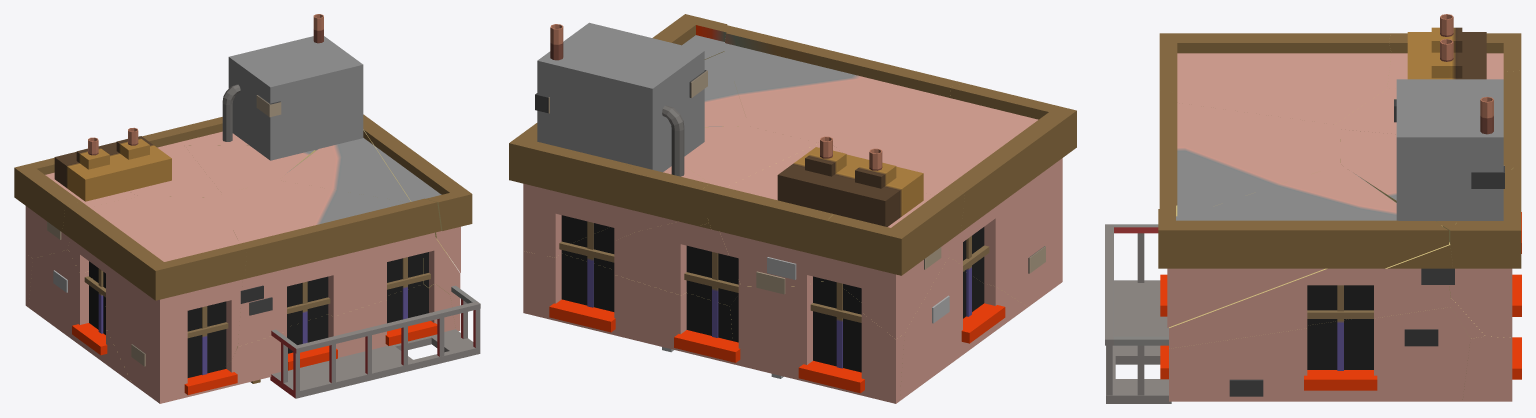
File: House_3_top_cell.fbx
3 renders of one model, left to right at view 1: azimuth 30°, elevation 25°; view 2: azimuth 150°, elevation 25°; view 3: azimuth 270°, elevation 25°, orthographic. The views are drawn at different scales.
Visible parts, largest first — view 1: polySurface298_cell.012, polySurface298_cell.010, pCube2, polySurface298_cell.007, polySurface298_cell.013, polySurface229, polySurface298_cell.009, polySurface298_cell.004, polySurface342, polySurface298_cell.008, polySurface298_cell.006, polySurface298_cell.011 (+7 smaller); view 2: polySurface298_cell.012, pCube2, polySurface298_cell.010, polySurface298_cell.005, polySurface298_cell.006, polySurface298_cell.008, polySurface298_cell, polySurface298_cell.001, polySurface298_cell.011, polySurface229, polySurface298_cell.004, polySurface298_cell.003 (+13 smaller); view 3: polySurface298_cell.002, polySurface298_cell.009, polySurface298_cell.013, polySurface298_cell.012, polySurface298_cell.010, pCube2, polySurface298_cell, polySurface342, polySurface229, polySurface298_cell.006, polySurface298_cell.001, polySurface298_cell.011 (+15 smaller).
Boxes of the visible parts, <box> form: polySurface298_cell.012: <box>62,196,246,403</box>; polySurface298_cell.010: <box>217,180,441,346</box>; pCube2: <box>228,36,363,160</box>; polySurface298_cell.007: <box>219,284,455,389</box>; polySurface298_cell.013: <box>279,130,460,294</box>; polySurface229: <box>54,136,171,201</box>; polySurface298_cell.009: <box>363,114,472,272</box>; polySurface298_cell.004: <box>28,249,131,382</box>; polySurface342: <box>270,329,480,398</box>; polySurface298_cell.008: <box>14,157,138,258</box>; polySurface298_cell.006: <box>185,145,316,193</box>; polySurface298_cell.011: <box>129,128,221,197</box>; polySurface298_cell.012: <box>833,83,1076,306</box>; pCube2: <box>537,22,704,172</box>; polySurface298_cell.010: <box>724,25,962,142</box>; polySurface298_cell.005: <box>728,281,904,403</box>; polySurface298_cell.006: <box>559,126,818,305</box>; polySurface298_cell.008: <box>827,187,964,339</box>; polySurface298_cell: <box>509,123,649,257</box>; polySurface298_cell.001: <box>523,251,732,362</box>; polySurface298_cell.011: <box>701,143,841,286</box>; polySurface229: <box>777,147,923,226</box>; polySurface298_cell.004: <box>899,257,1027,400</box>; polySurface298_cell.003: <box>624,163,710,231</box>; polySurface298_cell.002: <box>1169,307,1470,401</box>; polySurface298_cell.009: <box>1158,205,1448,327</box>; polySurface298_cell.013: <box>1169,164,1452,348</box>; polySurface298_cell.012: <box>1159,33,1391,124</box>; polySurface298_cell.010: <box>1159,90,1340,216</box>; pCube2: <box>1396,79,1503,220</box>; polySurface298_cell: <box>1449,160,1521,337</box>; polySurface342: <box>1106,280,1171,403</box>; polySurface229: <box>1407,27,1486,79</box>; polySurface298_cell.006: <box>1340,129,1485,338</box>; polySurface298_cell.001: <box>1462,336,1512,401</box>; polySurface298_cell.011: <box>1335,70,1521,134</box>.
Size of the model in its own units: 1428 by 1033 by 1274.
